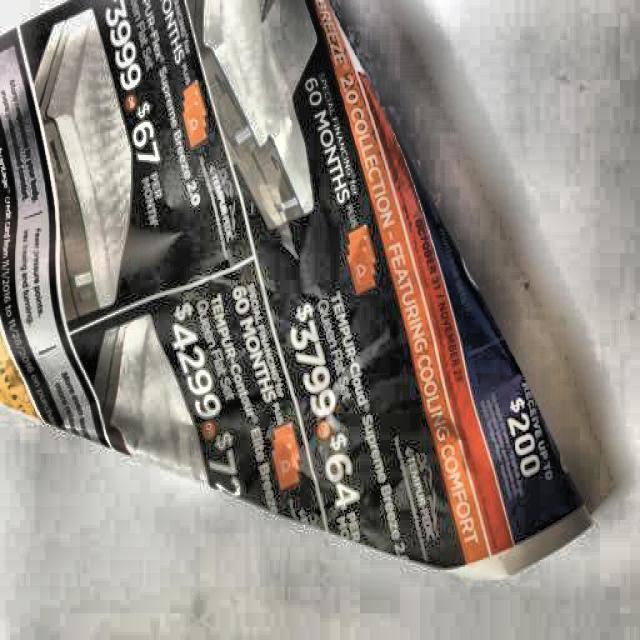paper: (0, 0, 598, 579)
